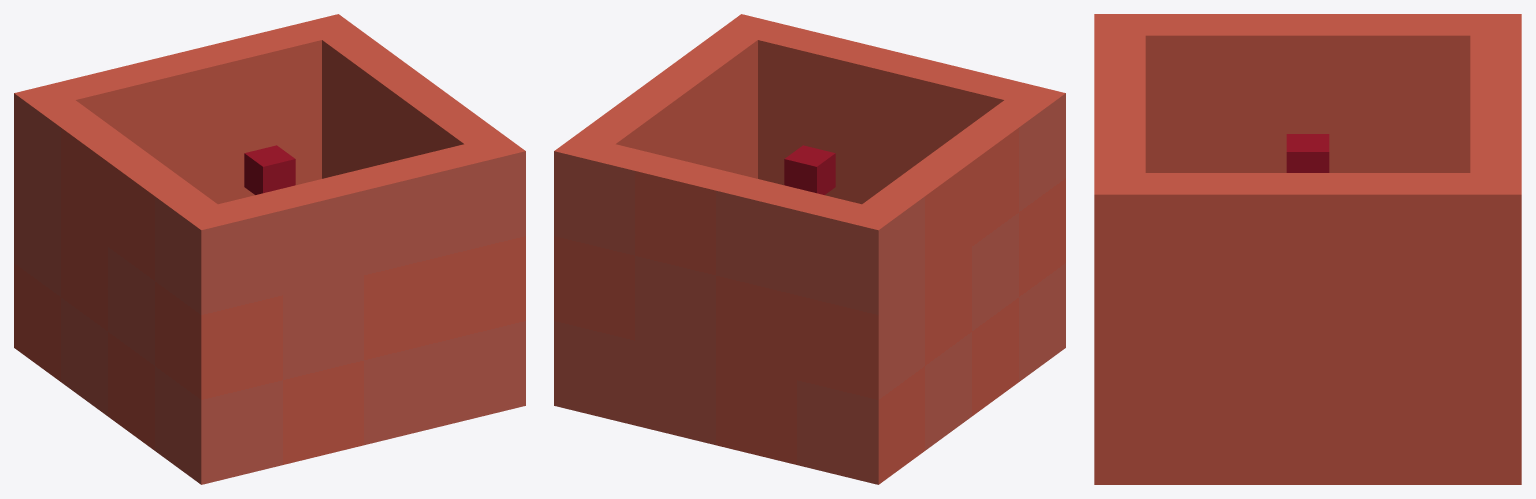
File: MatchJar.fbx
The picture shows the model from 3 angles, left to right: view 1: azimuth 30°, elevation 25°; view 2: azimuth 150°, elevation 25°; view 3: azimuth 270°, elevation 25°; orthographic projection. The views are drawn at different scales.
Parts seen in each view (by area): view 1: Box, cube_1; view 2: Box, cube_1; view 3: Box, cube_1.
Part boxes in pixels (bbox=[...]): Box: bbox=[14, 14, 525, 484]; cube_1: bbox=[244, 145, 295, 194]; Box: bbox=[554, 14, 1065, 484]; cube_1: bbox=[784, 145, 835, 194]; Box: bbox=[1094, 14, 1521, 484]; cube_1: bbox=[1286, 134, 1329, 172].
Size of the model in its own units: 25 by 18.75 by 25.
Materials: 1 (1 with a texture image).
